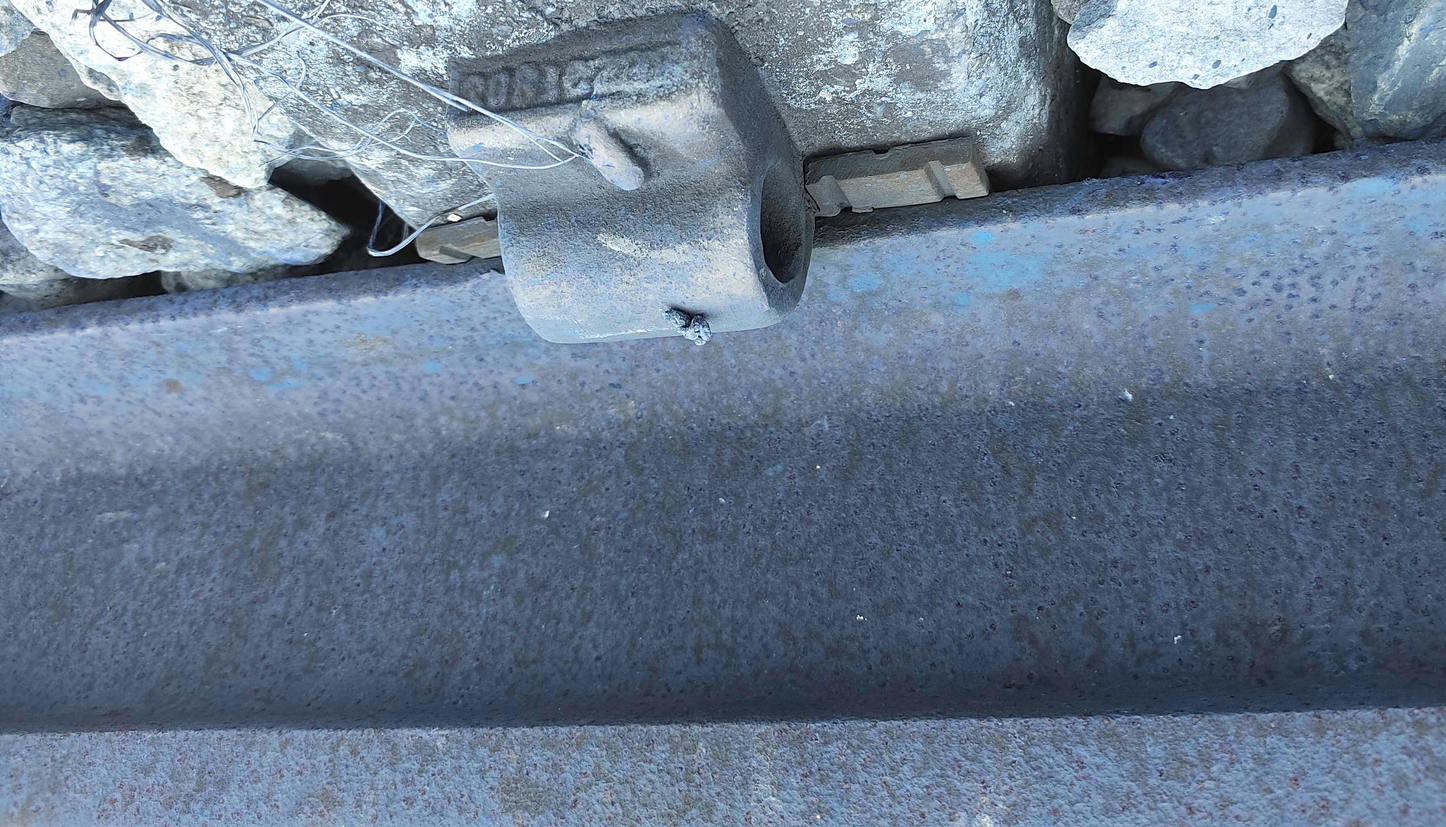loss: (447, 17, 834, 370)
